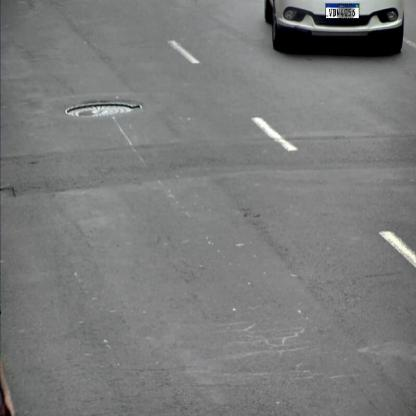PlacaM: (326, 3, 360, 19)
